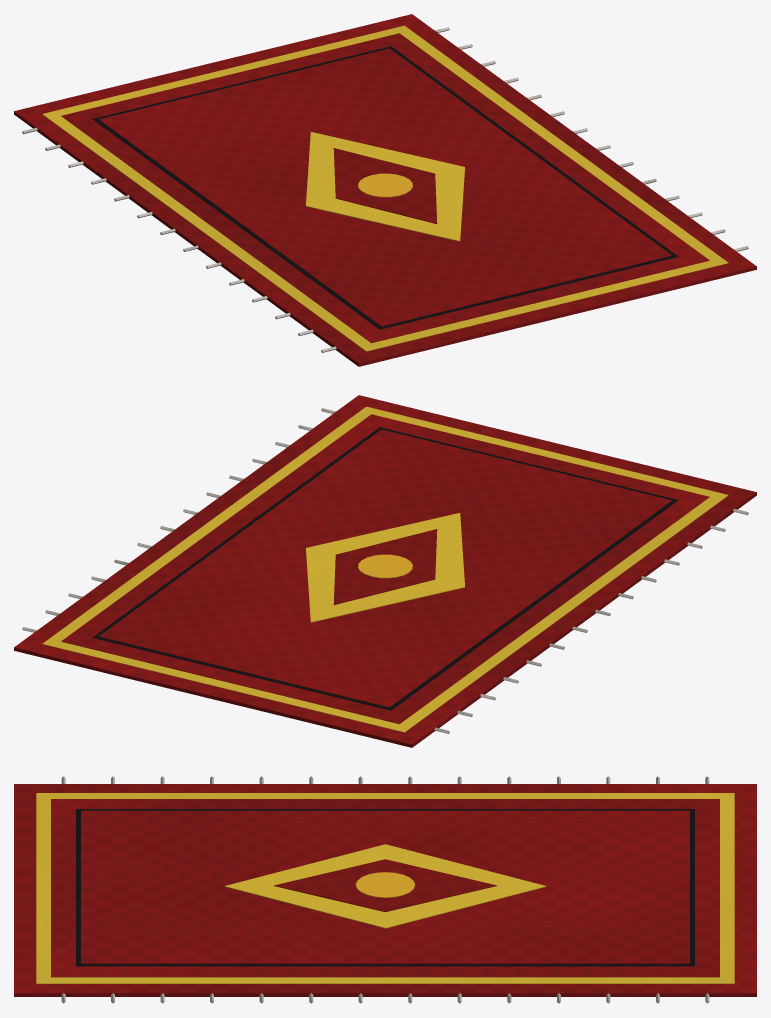
File: prop_rug.glb
3 renders of one model, top to bottom at view 1: azimuth 30°, elevation 25°; view 2: azimuth 150°, elevation 25°; view 3: azimuth 270°, elevation 25°, orthographic. The views are drawn at different scales.
Parts seen in each view (by area): view 1: prop_rug; view 2: prop_rug; view 3: prop_rug.
Boxes of the visible parts, left/top/right/bottom form: prop_rug: left=14, top=14, right=756, bottom=366; prop_rug: left=14, top=395, right=756, bottom=747; prop_rug: left=14, top=776, right=756, bottom=1003.
Size of the model in its own units: 2.14 by 0.0335 by 3.
Materials: 5 (5 with a texture image).
